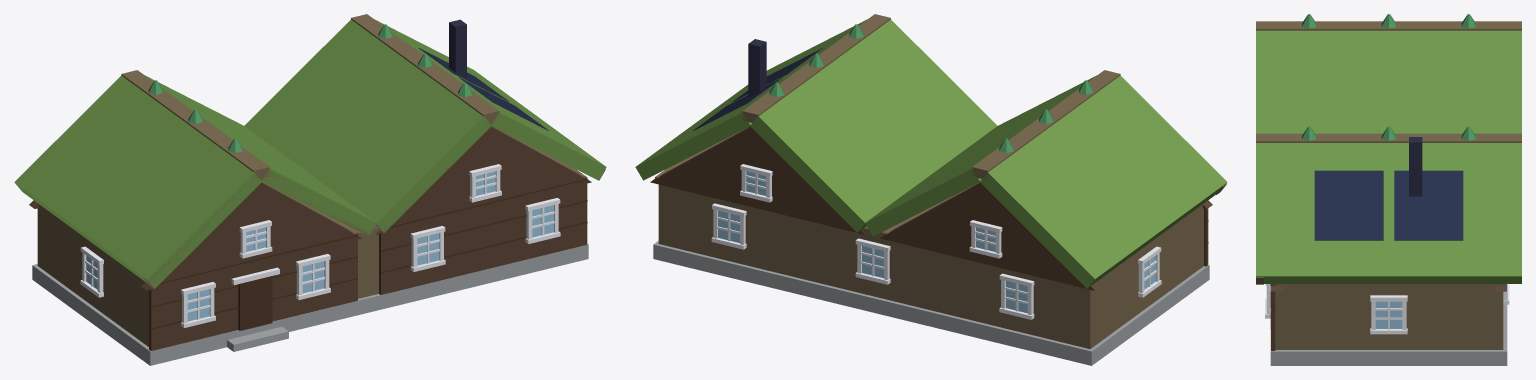
The model's file is house-2x1-1f-turf-a-solar.glb.
3 views of the same model, side by side, from view 1: azimuth 30°, elevation 25°; view 2: azimuth 150°, elevation 25°; view 3: azimuth 270°, elevation 25° (orthographic).
Parts seen in each view (by area): view 1: house-2x1-1f-turf-a-solar; view 2: house-2x1-1f-turf-a-solar; view 3: house-2x1-1f-turf-a-solar.
Part boxes in pixels (x1=…): house-2x1-1f-turf-a-solar: x1=14, y1=14, x2=606, y2=365; house-2x1-1f-turf-a-solar: x1=635, y1=14, x2=1227, y2=365; house-2x1-1f-turf-a-solar: x1=1256, y1=14, x2=1521, y2=365.
Size of the model in its own units: 2 by 0.82 by 1.
1 material, 1 textured.
